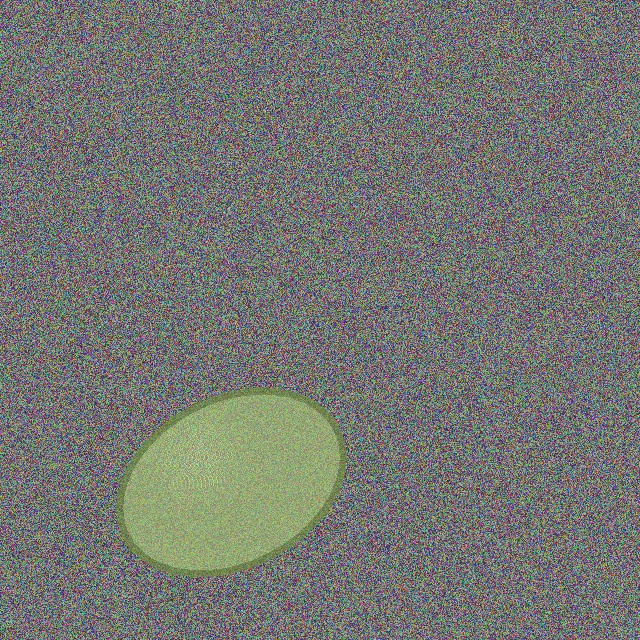lens: (120, 391, 342, 573)
